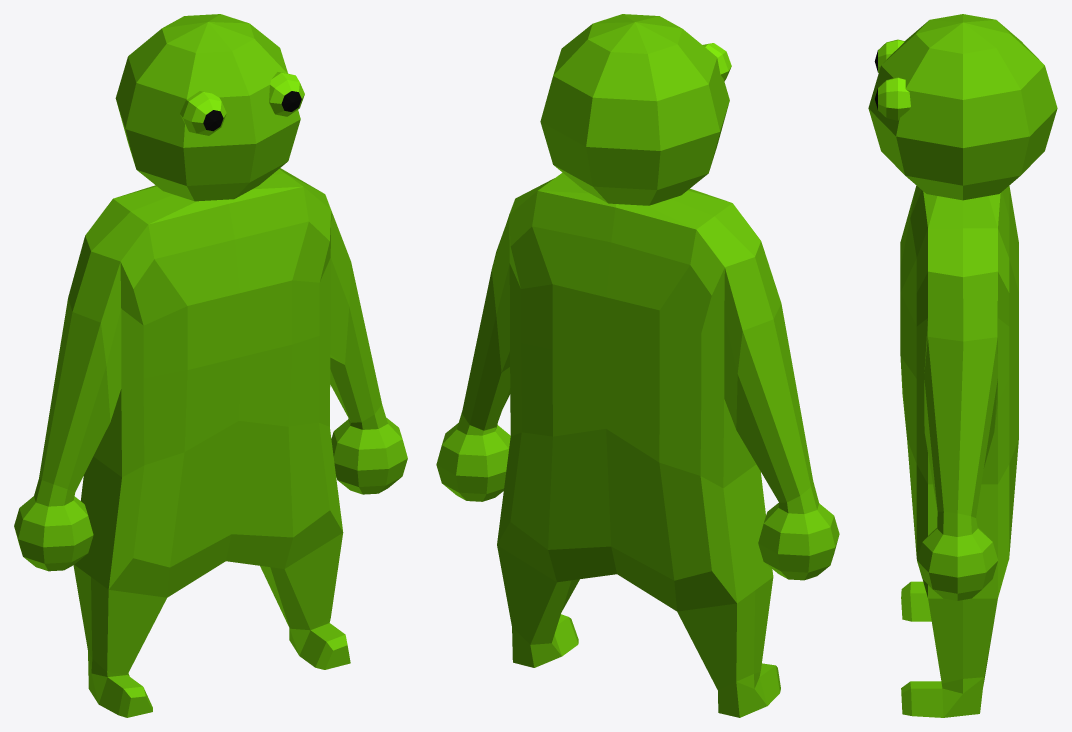
The model's file is character.fbx.
3 views of the same model, side by side, from view 1: azimuth 30°, elevation 25°; view 2: azimuth 150°, elevation 25°; view 3: azimuth 270°, elevation 25° (orthographic). The views are drawn at different scales.
Visible parts, largest first — view 1: Cube.001; view 2: Cube.001; view 3: Cube.001.
Boxes of the visible parts, bbox=[...] form: Cube.001: bbox=[14, 14, 407, 717]; Cube.001: bbox=[436, 14, 839, 717]; Cube.001: bbox=[868, 14, 1057, 717].
Bounding box in the file's own units: 0.9385 × 1.5 × 0.4039.
